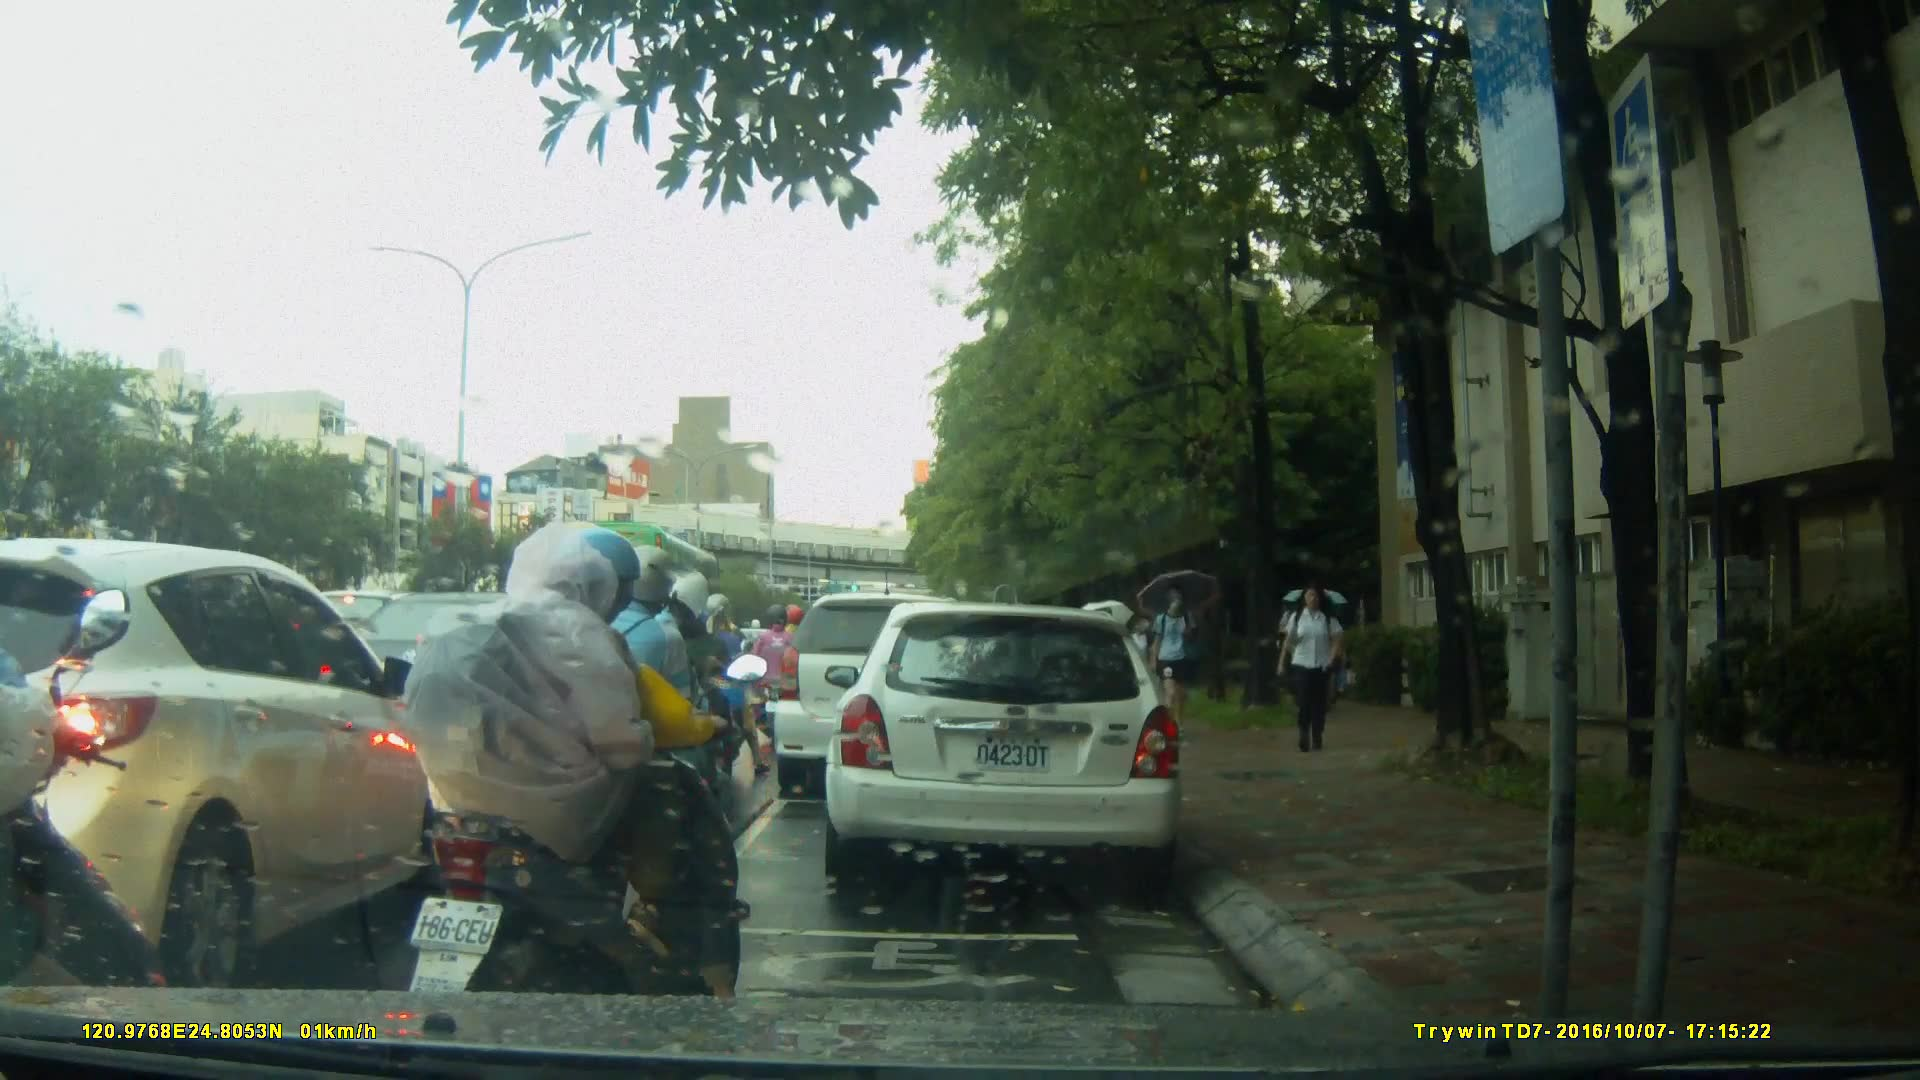pedestrian: (1276, 577, 1353, 753), (1140, 576, 1207, 740), (1133, 613, 1165, 723), (1096, 601, 1124, 715)
rider: (401, 520, 757, 1057), (1, 579, 176, 1079), (547, 546, 724, 885), (617, 573, 749, 859), (745, 601, 800, 756), (770, 603, 818, 737)
vehicle: (1, 538, 454, 989), (822, 604, 1186, 882), (774, 595, 995, 802), (554, 519, 739, 666)
